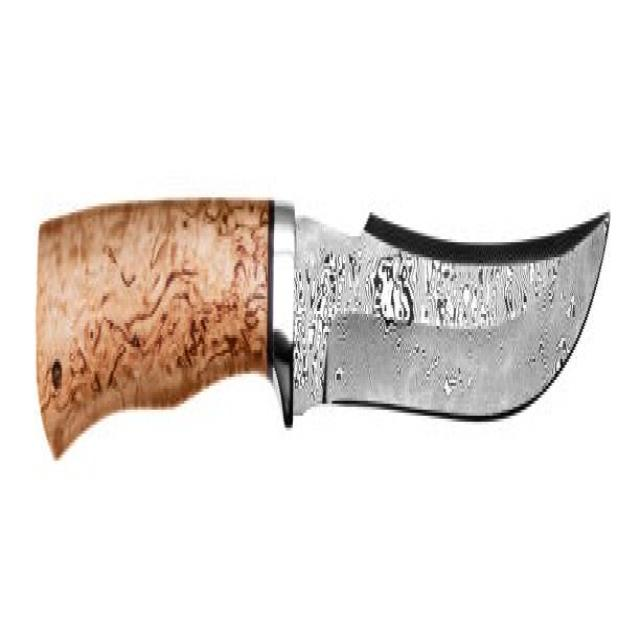knife: (31, 178, 618, 473)
